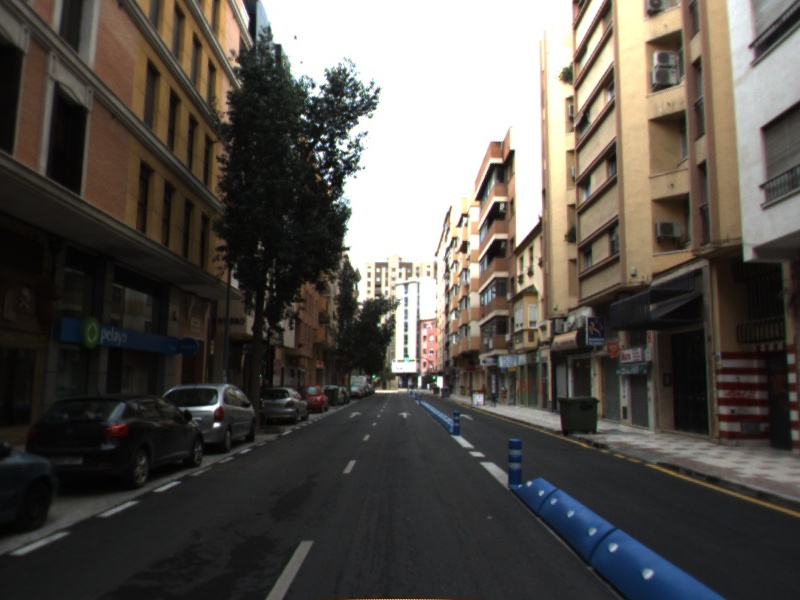STRAIGHT: (347, 410, 364, 419), (458, 412, 475, 421), (397, 410, 413, 419)
